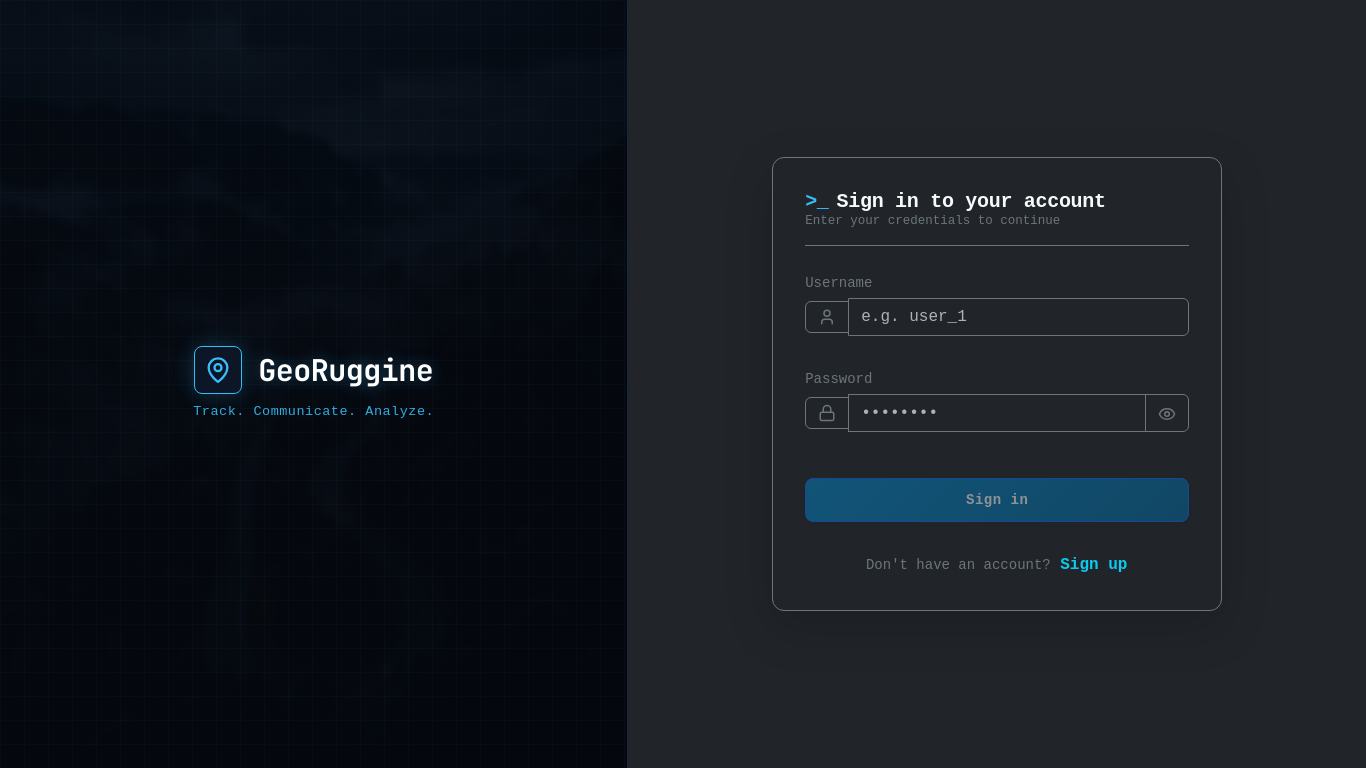
App authentication flow › returns to login with a success message after a successful registration
Step 1. Click the button "Sign up" → (1094, 565), box [1059,552,1128,578]
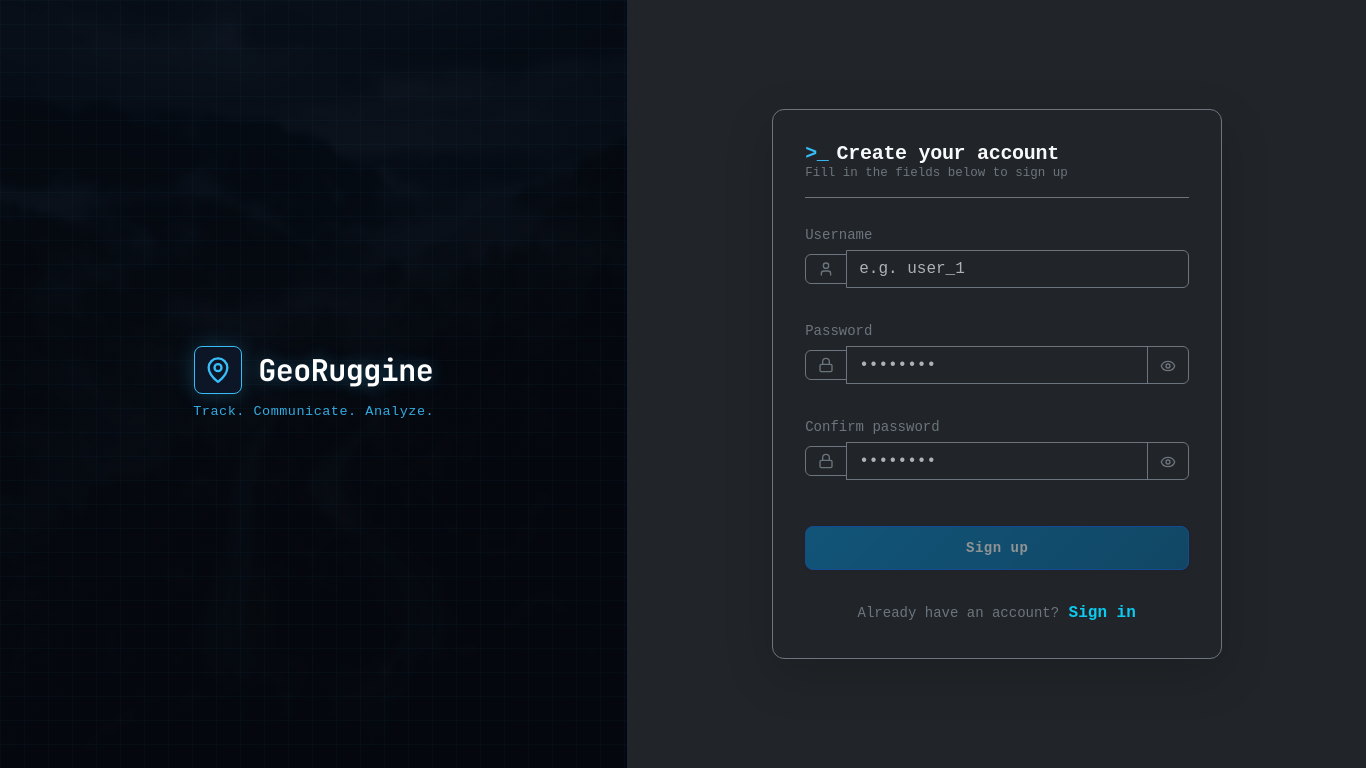
Step 2. Type "alice" into the field labelled "Username" → (1018, 269), box [846,250,1189,288]
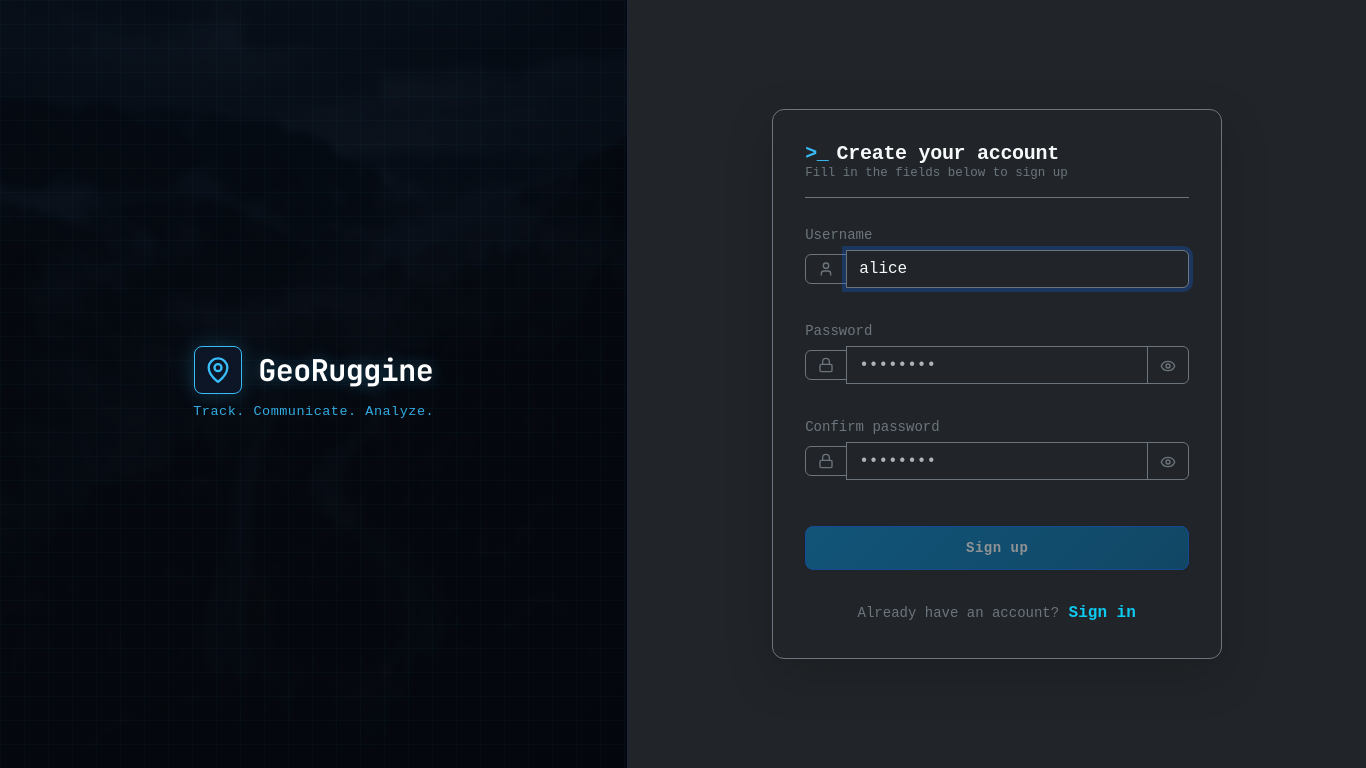
Step 3. Type "secret" into the password field labelled "Password" → (997, 365), box [846,346,1148,384]
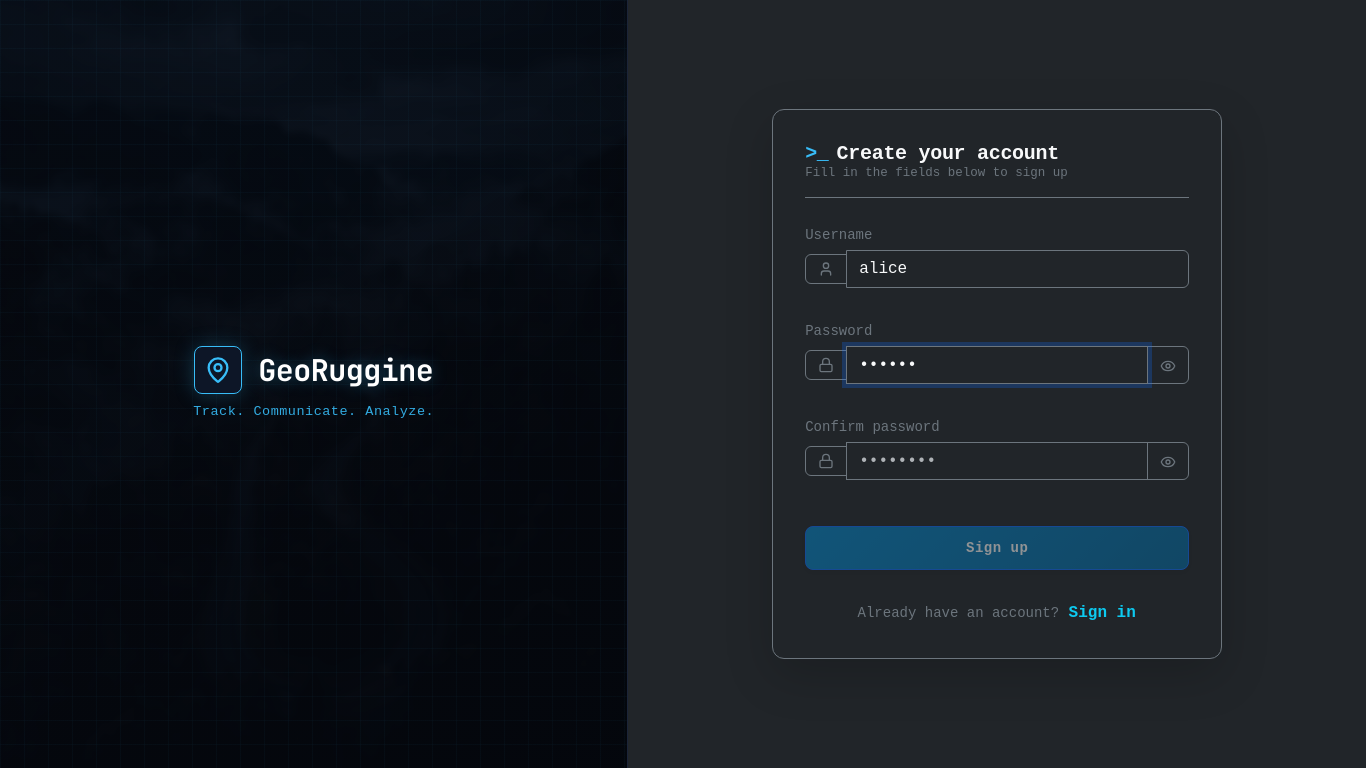
Step 4. Type "secret" into the password field labelled "Confirm password" → (997, 461), box [846,442,1148,480]
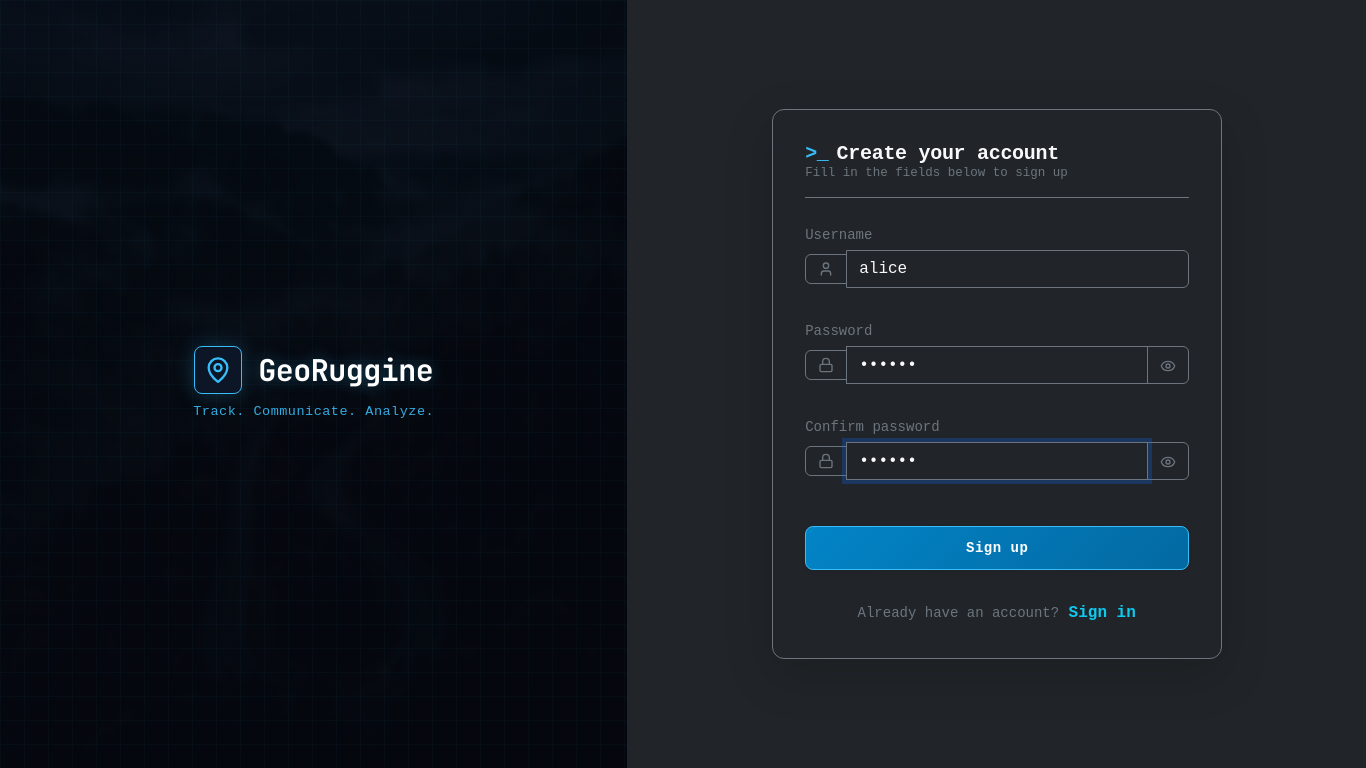
Step 5. Click the button "Sign up" → (997, 548), box [805,526,1189,570]
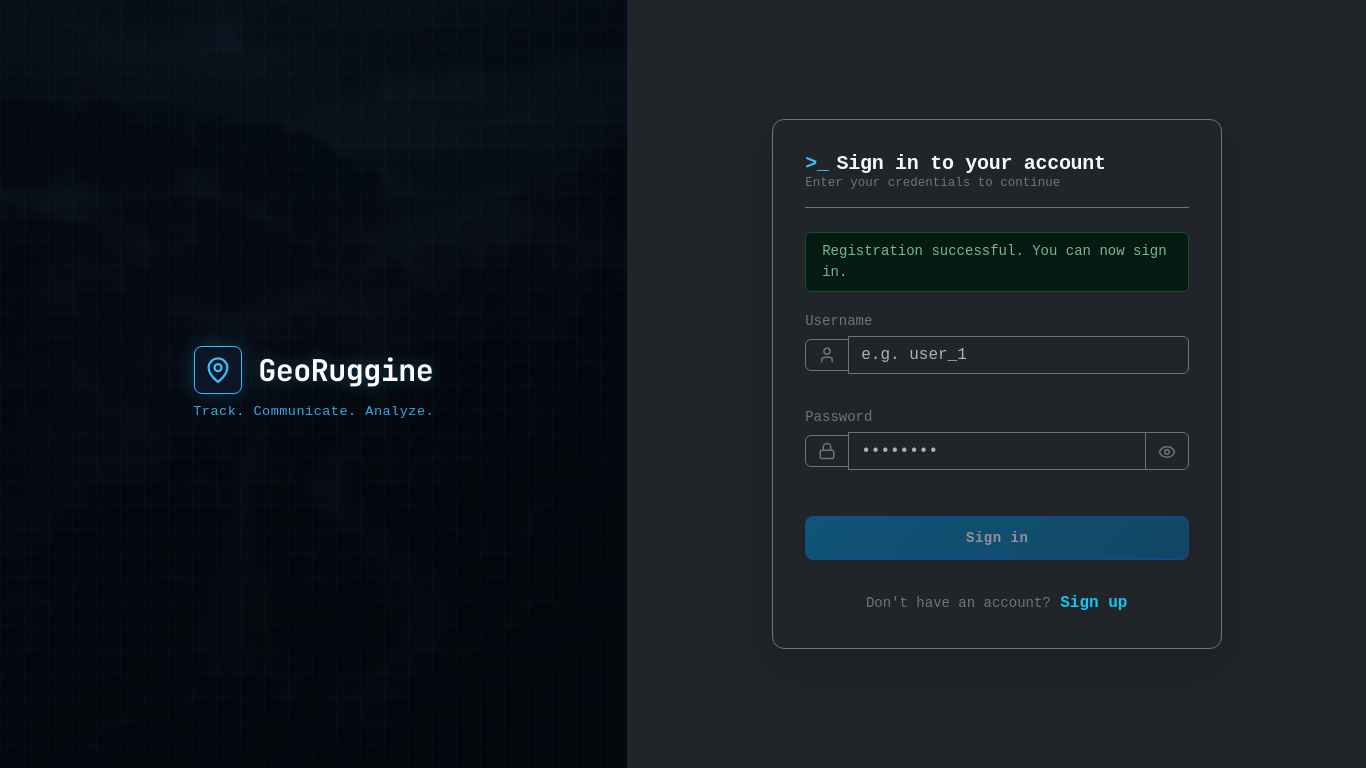
expect the text "Registration successful. You can now sign in." is shown: met, box [822,241,1172,283]
expect the heading "Sign in to your account" is shown: met, box [837,152,1106,175]
